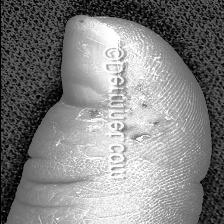Toxin: (124, 44, 180, 190), (73, 106, 107, 140)
